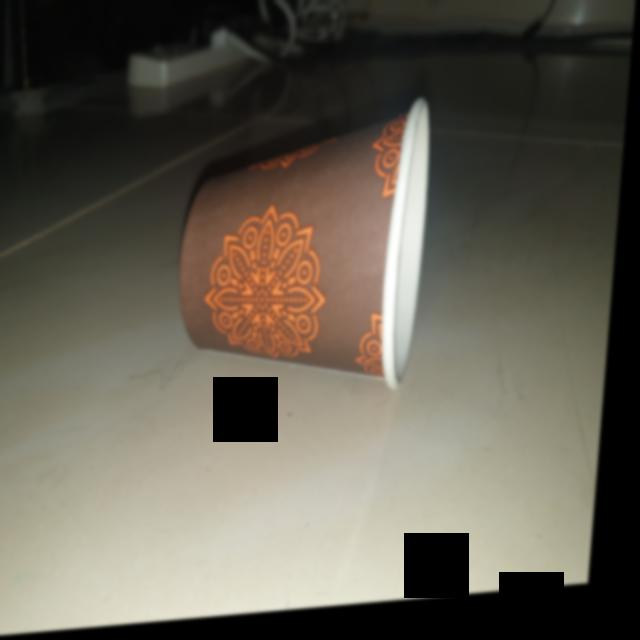cups: (164, 91, 460, 428)
